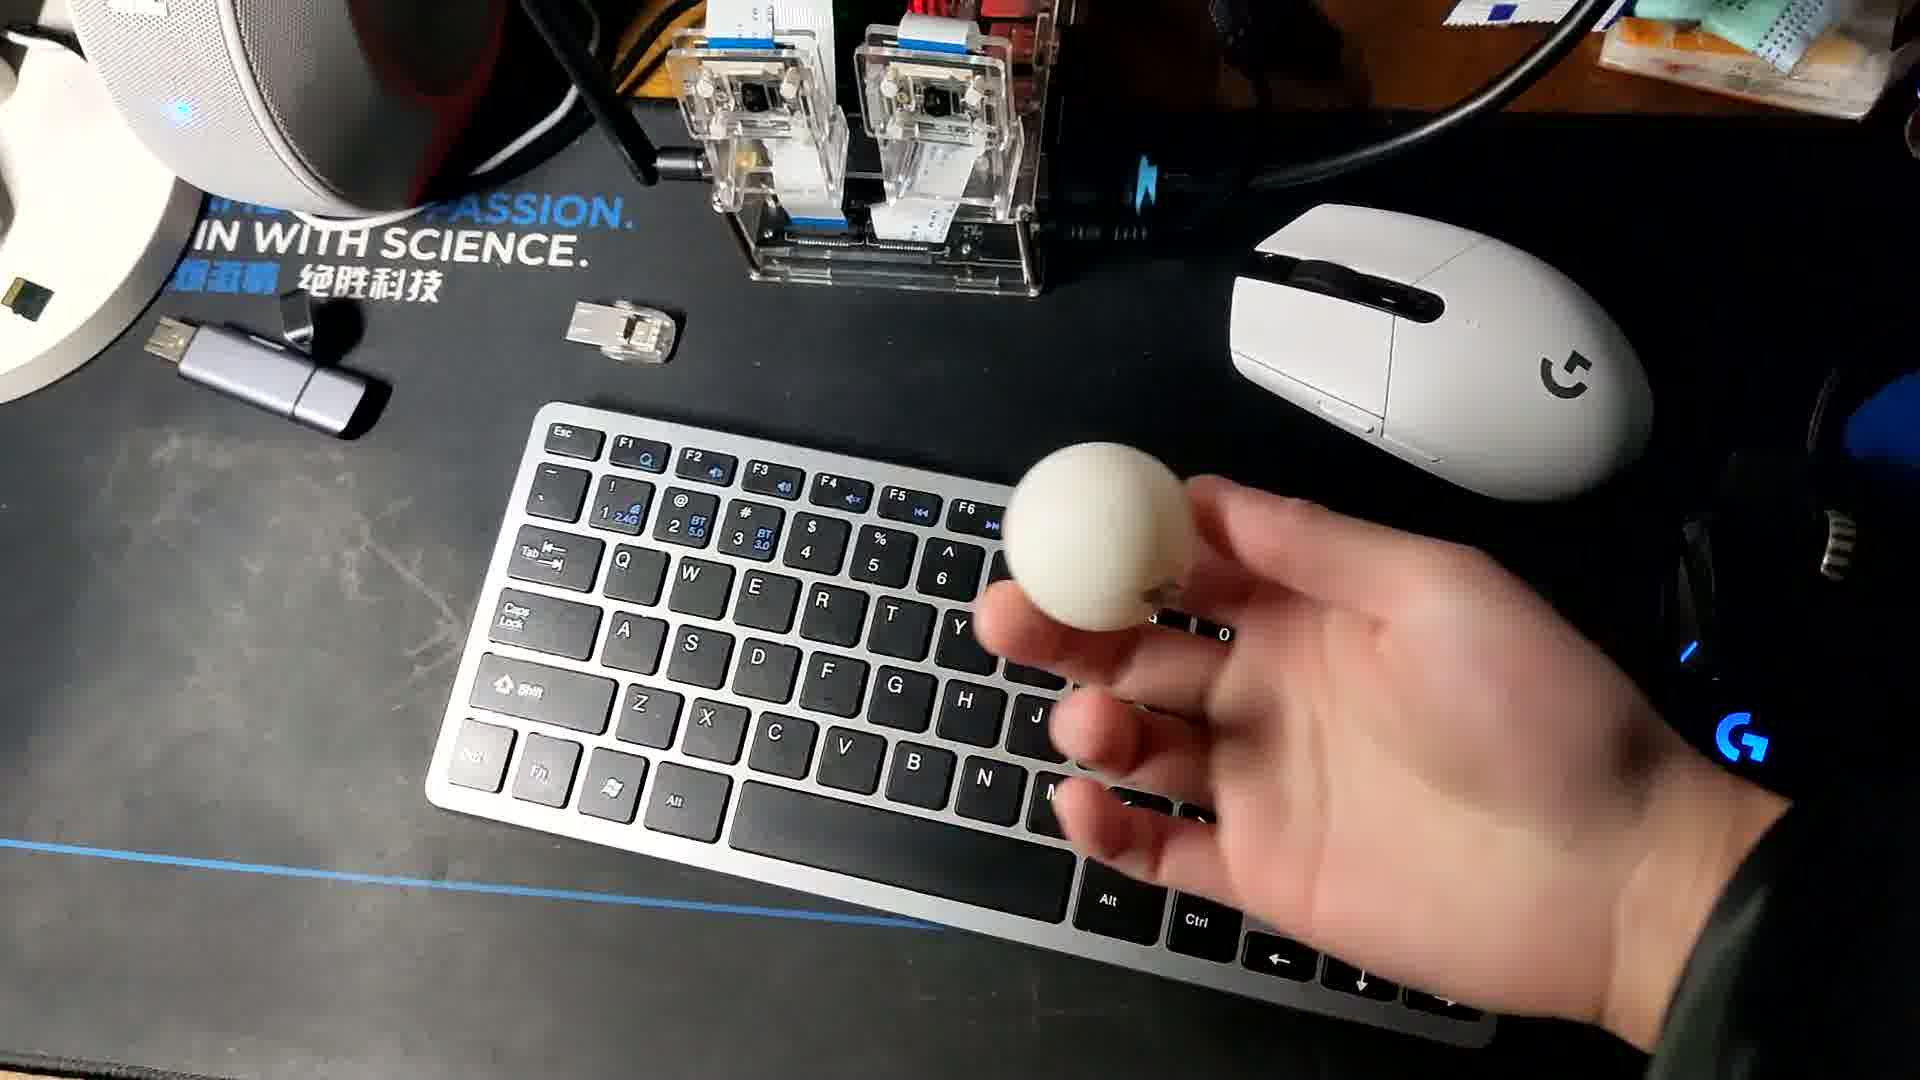Ball: (1000, 440, 1191, 632)
